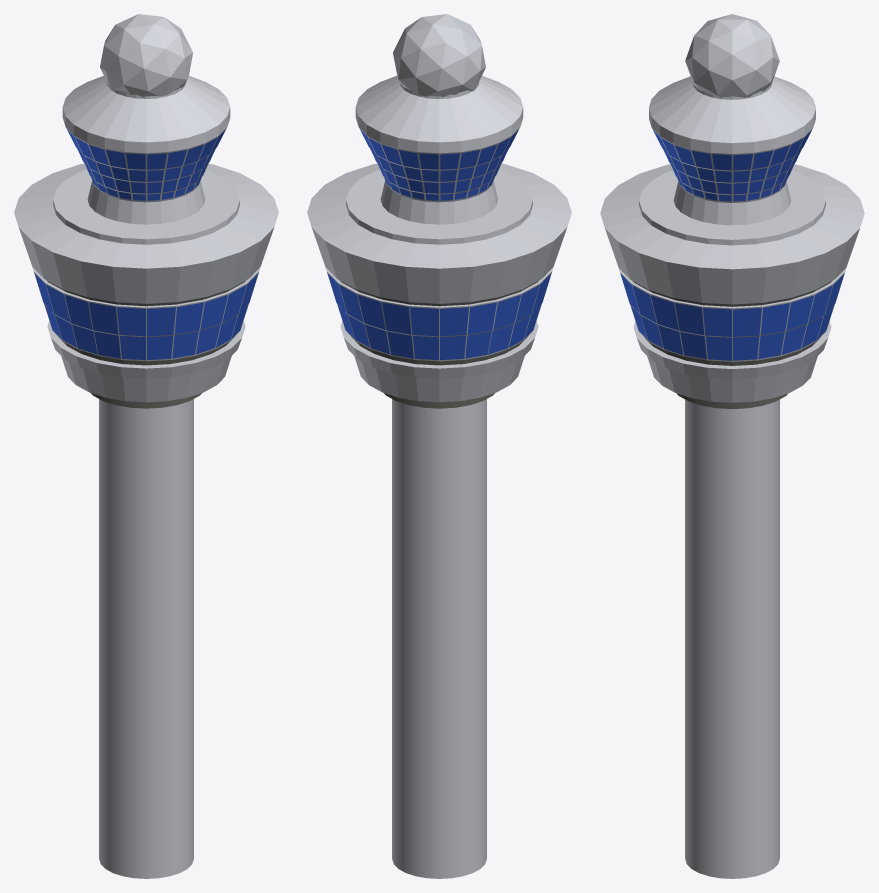
Rendered from schipholtoren.fbx.
3 renders of one model, left to right at view 1: azimuth 30°, elevation 25°; view 2: azimuth 150°, elevation 25°; view 3: azimuth 270°, elevation 25°, orthographic.
Visible parts, largest first — view 1: Schipholtoren; view 2: Schipholtoren; view 3: Schipholtoren.
Boxes of the visible parts, x1,y1,x2,y2 form: Schipholtoren: (14,14,278,878); Schipholtoren: (307,14,571,878); Schipholtoren: (600,14,864,878).
Bounding box in the file's own units: 559 × 559 × 1955.
